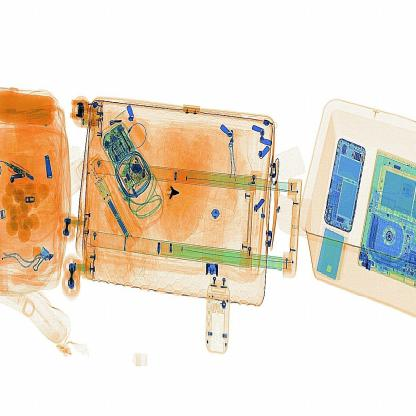gun: (164, 170, 186, 208)
